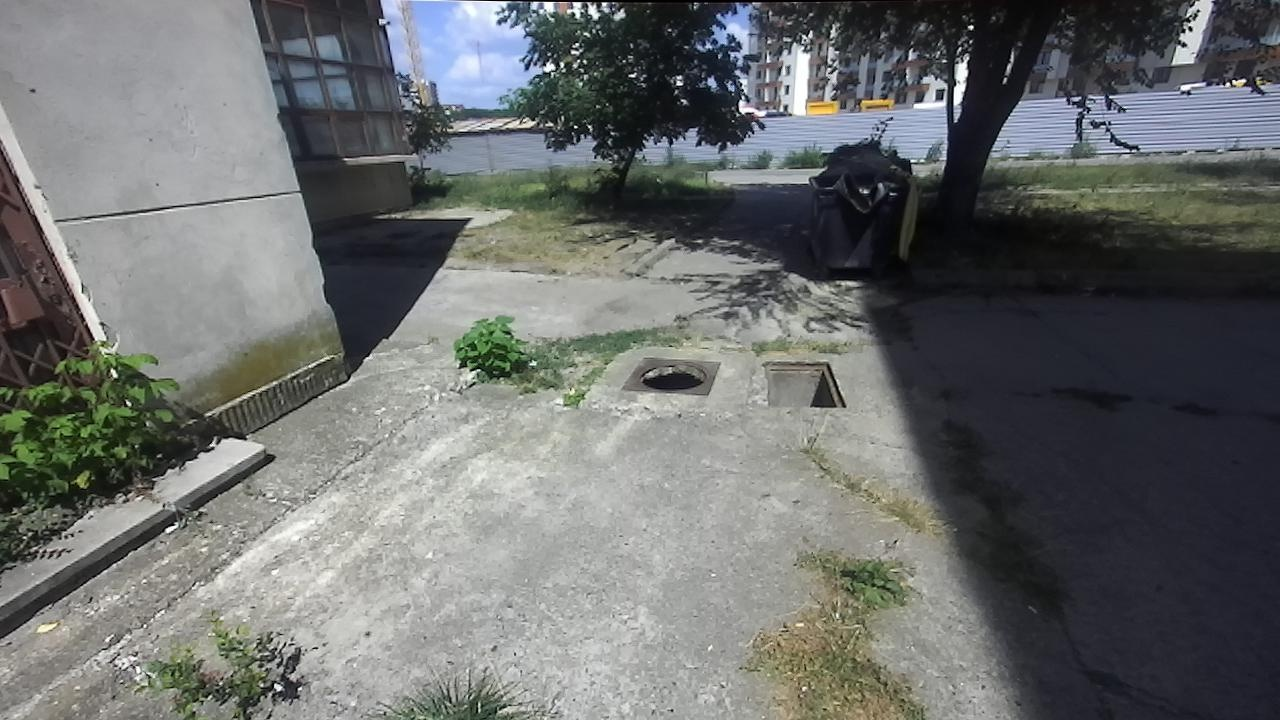drain: (758, 357, 847, 409), (634, 358, 711, 393)
